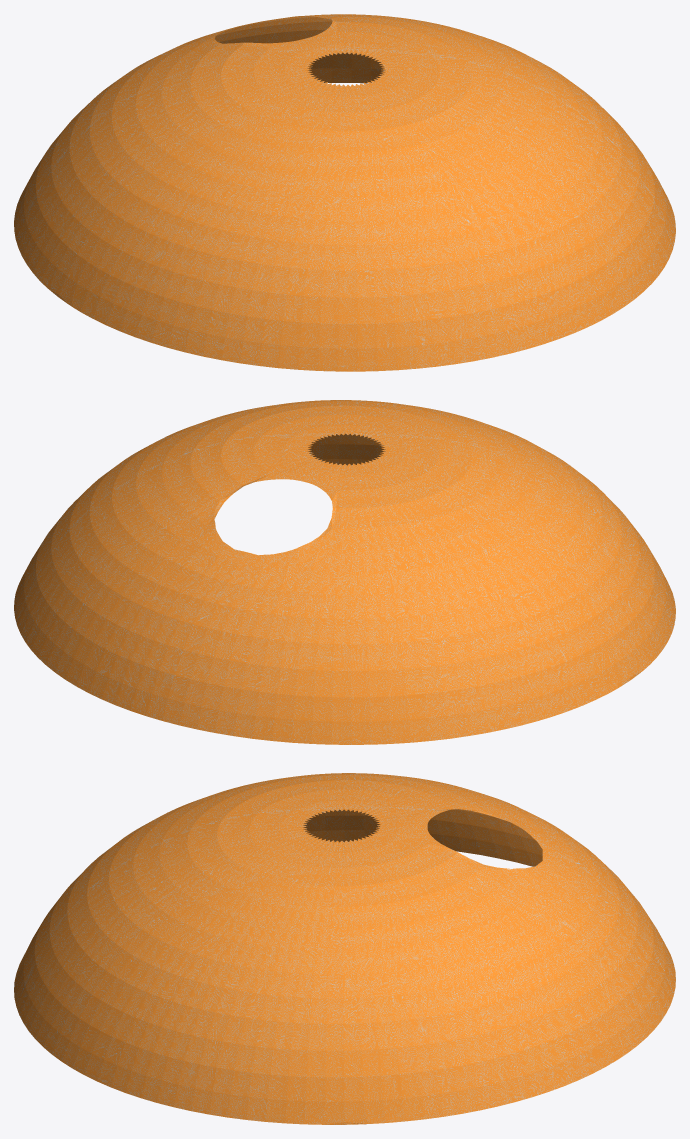
File: original-3.obj
3 renders of one model, top to bottom at view 1: azimuth 30°, elevation 25°; view 2: azimuth 150°, elevation 25°; view 3: azimuth 270°, elevation 25°, orthographic.
Parts seen in each view (by area): view 1: mesh2/mesh2-geometry#mesh2-geometry; view 2: mesh2/mesh2-geometry#mesh2-geometry; view 3: mesh2/mesh2-geometry#mesh2-geometry.
Boxes of the visible parts, x1,y1,x2,y2 form: mesh2/mesh2-geometry#mesh2-geometry: (14, 14, 675, 371); mesh2/mesh2-geometry#mesh2-geometry: (14, 400, 675, 744); mesh2/mesh2-geometry#mesh2-geometry: (14, 773, 675, 1124).
Bounding box in the file's own units: 0.8121 × 0.2232 × 0.8124.
